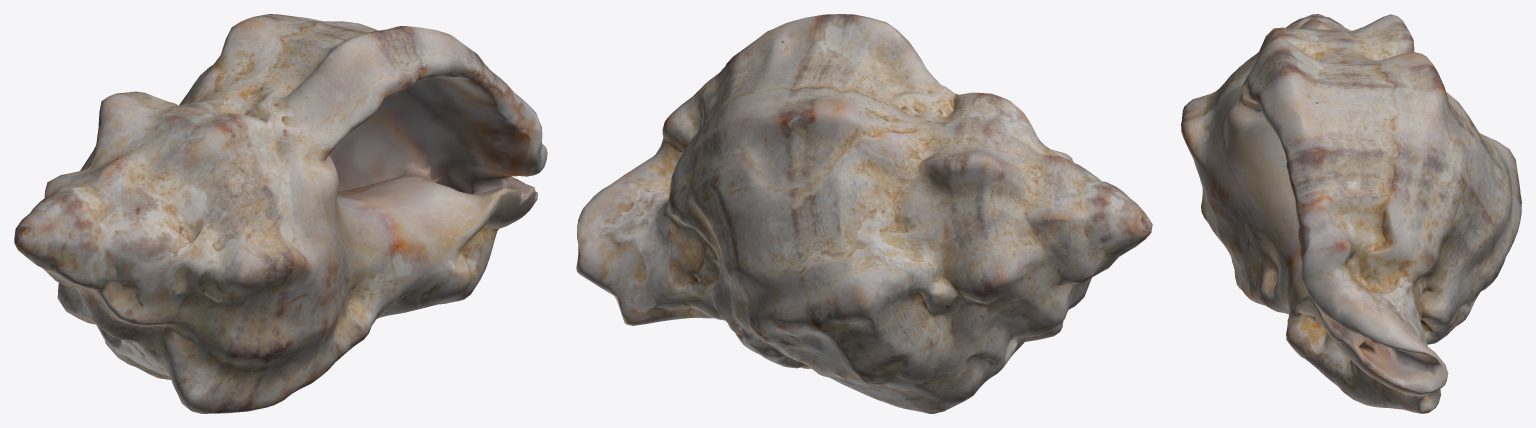
The model's file is seashell.glb.
3 renders of one model, left to right at view 1: azimuth 30°, elevation 25°; view 2: azimuth 150°, elevation 25°; view 3: azimuth 270°, elevation 25°, orthographic. The views are drawn at different scales.
Visible parts, largest first — view 1: Object_2; view 2: Object_2; view 3: Object_2.
Boxes of the visible parts, bbox=[...] form: Object_2: bbox=[14, 14, 547, 413]; Object_2: bbox=[576, 14, 1152, 413]; Object_2: bbox=[1181, 14, 1521, 413].
Size of the model in its own units: 1.52 by 0.9117 by 0.8714.
1 material, 1 textured.
